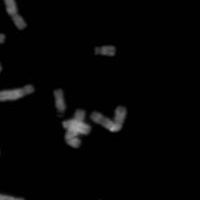chromosome: (90, 107, 125, 131), (66, 108, 86, 148), (3, 0, 26, 29), (0, 85, 34, 101), (63, 119, 88, 135), (53, 89, 66, 112), (93, 46, 114, 56), (0, 193, 25, 200), (0, 32, 3, 43), (0, 62, 1, 84)
